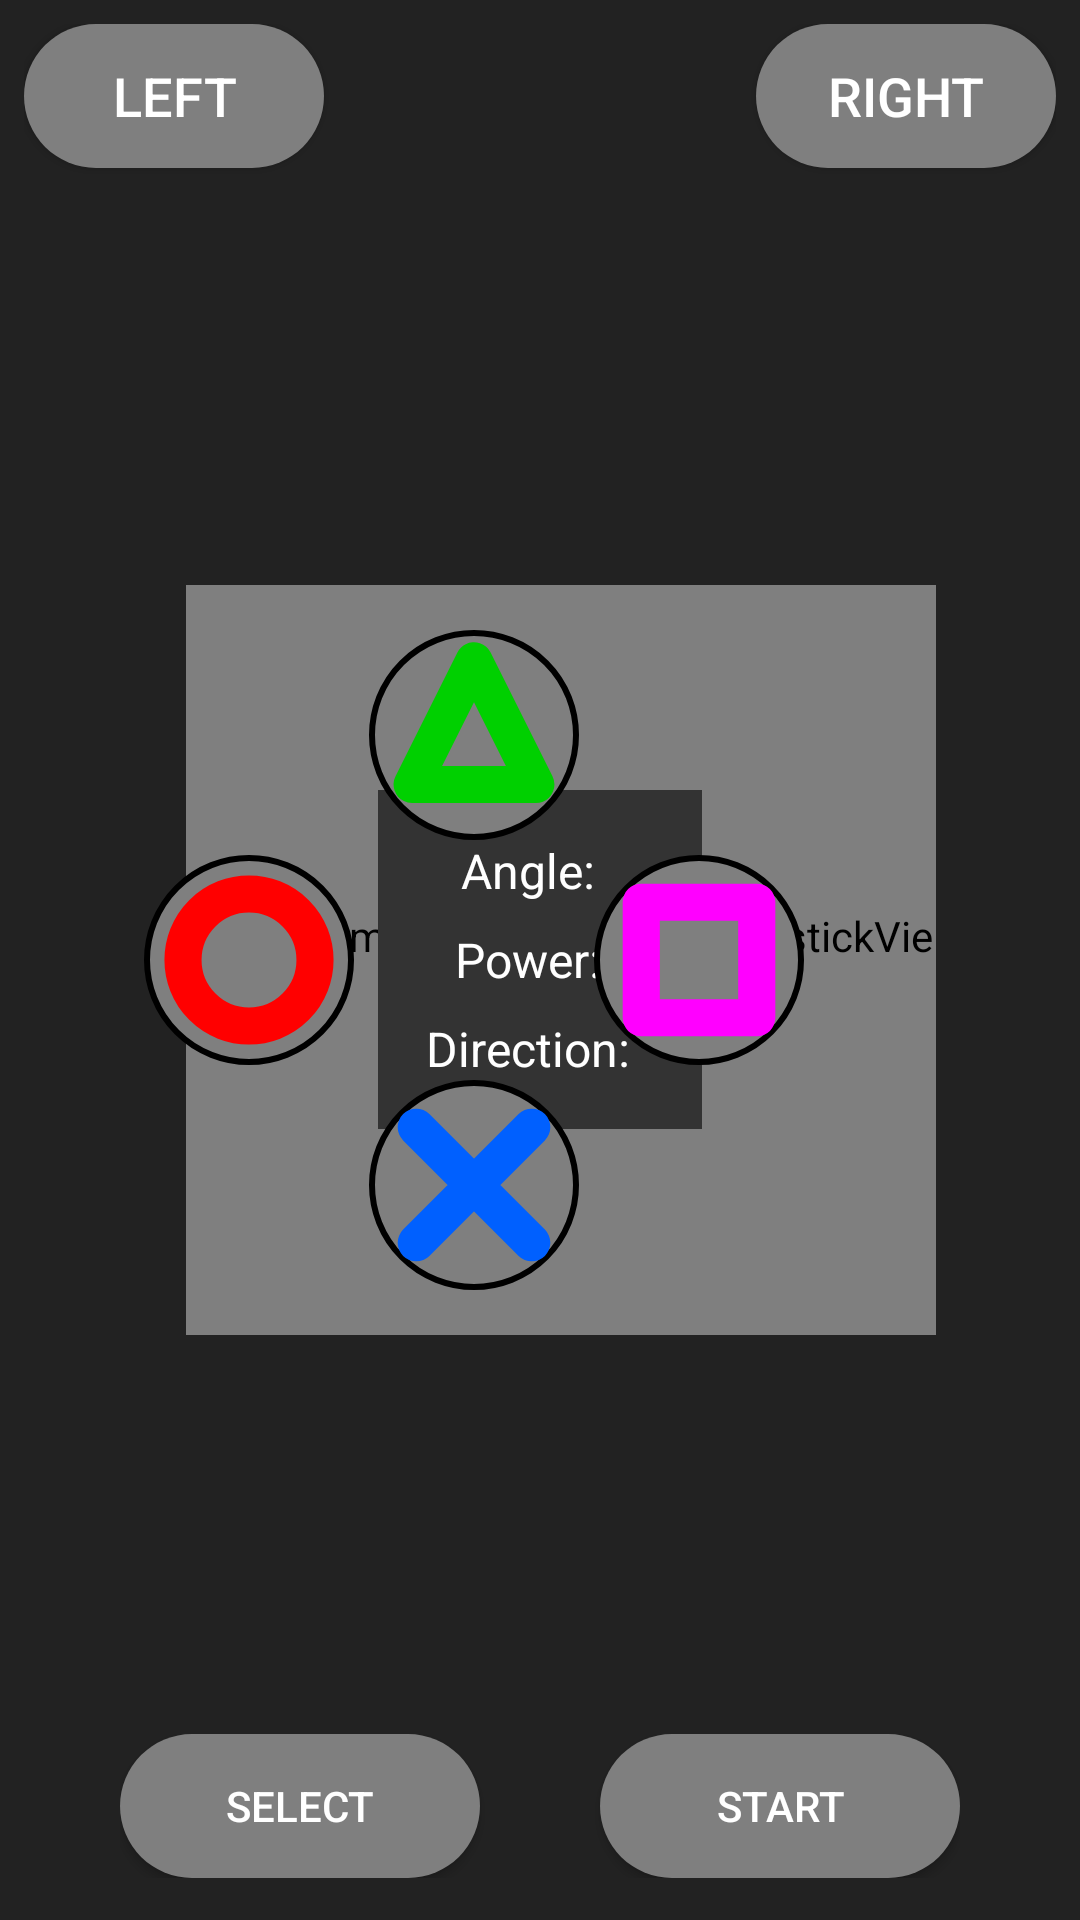

Point at icon controls on the screen. Image size 1080 × 1920, points as (x=x, y=y).
circle: (x=249, y=960)
cross: (x=474, y=1185)
square: (x=699, y=960)
